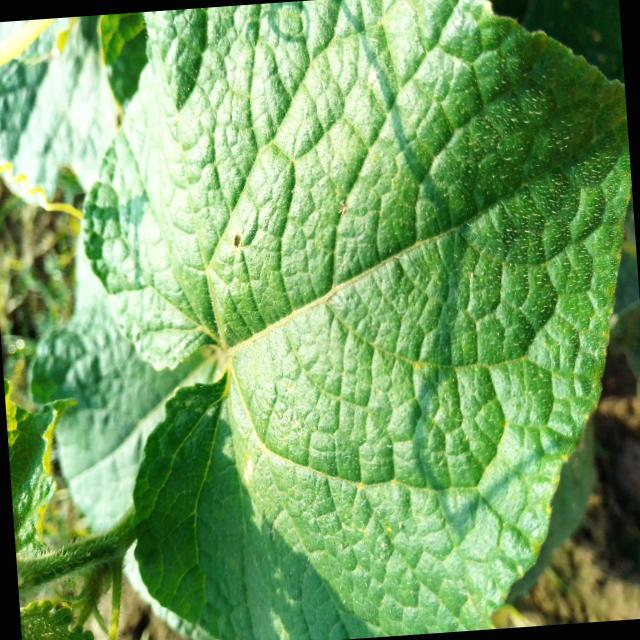Fresh-Leaf: (83, 0, 631, 640)
